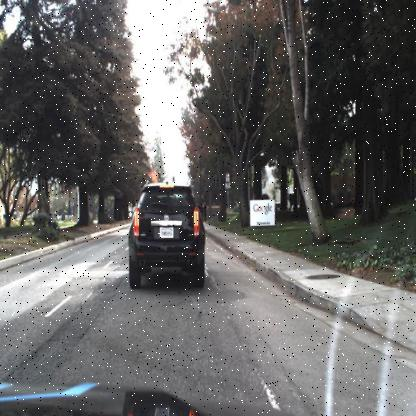car: (128, 182, 206, 296)
trafficLight-Green: (156, 170, 161, 182), (172, 175, 176, 183)
